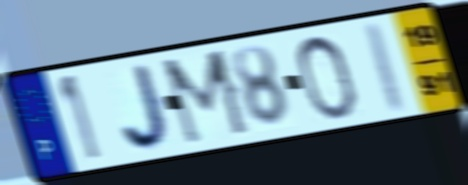1: (56, 70, 106, 165)
8: (233, 44, 289, 133)
I: (365, 19, 410, 117)
J: (119, 60, 175, 153)
M: (159, 46, 254, 150)
O: (293, 32, 359, 123)
